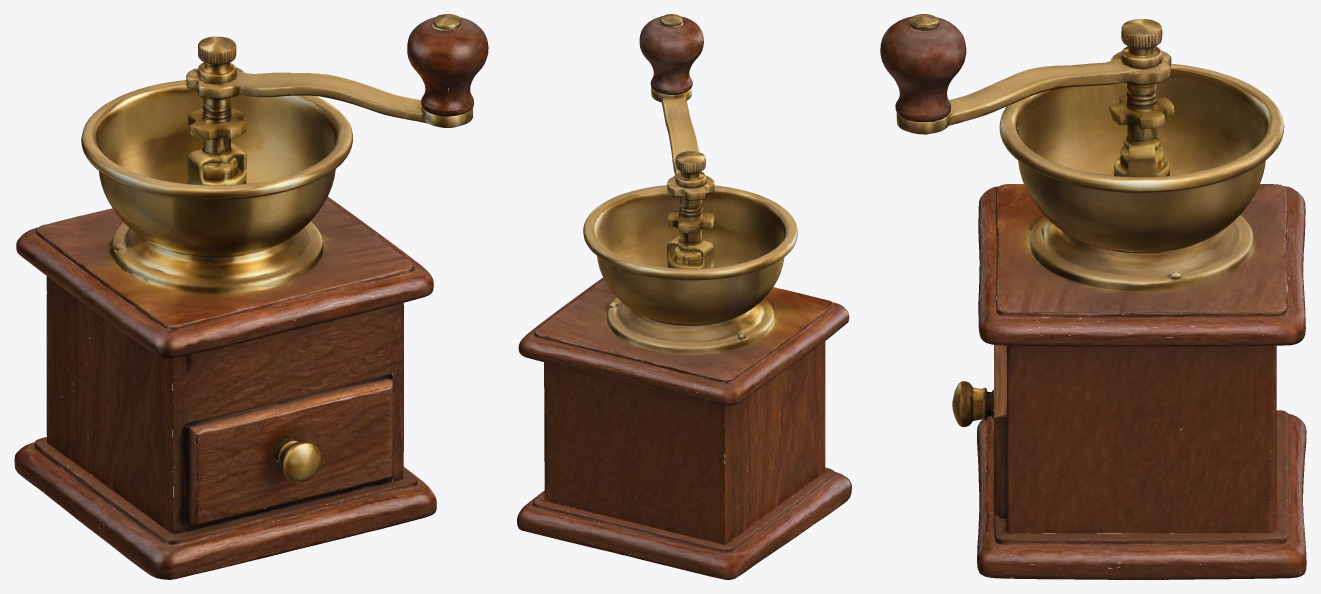
The model's file is grinder.glb.
3 views of the same model, side by side, from view 1: azimuth 30°, elevation 25°; view 2: azimuth 150°, elevation 25°; view 3: azimuth 270°, elevation 25° (orthographic). The views are drawn at different scales.
Visible parts, largest first — view 1: tripo_node_1aa5e1c6-8085-4b21-bd80-2f28a3f5de85; view 2: tripo_node_1aa5e1c6-8085-4b21-bd80-2f28a3f5de85; view 3: tripo_node_1aa5e1c6-8085-4b21-bd80-2f28a3f5de85.
Part boxes in pixels (x1,y1,x2,y2): tripo_node_1aa5e1c6-8085-4b21-bd80-2f28a3f5de85: (14,14,488,579); tripo_node_1aa5e1c6-8085-4b21-bd80-2f28a3f5de85: (517,14,851,579); tripo_node_1aa5e1c6-8085-4b21-bd80-2f28a3f5de85: (880,14,1306,579).
Size of the model in its own units: 0.5787 by 0.9796 by 0.6829.
Materials: 1 (1 with a texture image).
